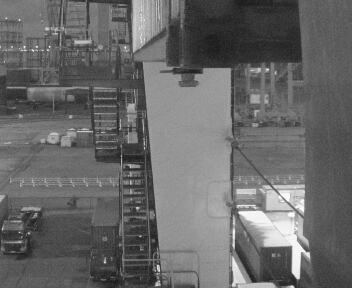twist_lock_1: (147, 158, 186, 191)
